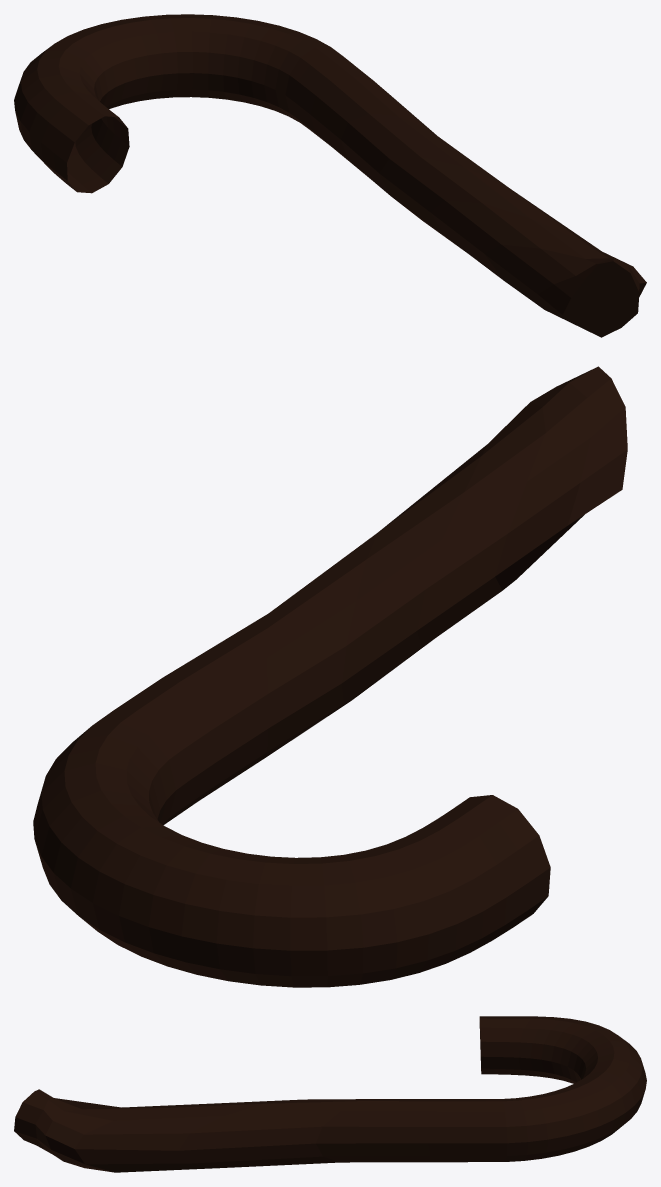
File: baston.fbx
3 views of the same model, one above another, from view 1: azimuth 30°, elevation 25°; view 2: azimuth 150°, elevation 25°; view 3: azimuth 270°, elevation 25° (orthographic). The views are drawn at different scales.
Parts seen in each view (by area): view 1: Torus.002; view 2: Torus.002; view 3: Torus.002.
Part boxes in pixels (x1,y1,x2,y2): Torus.002: (14, 14, 646, 337); Torus.002: (33, 366, 627, 987); Torus.002: (14, 1016, 646, 1172).
Bounding box in the file's own units: 211 × 62.55 × 492.
